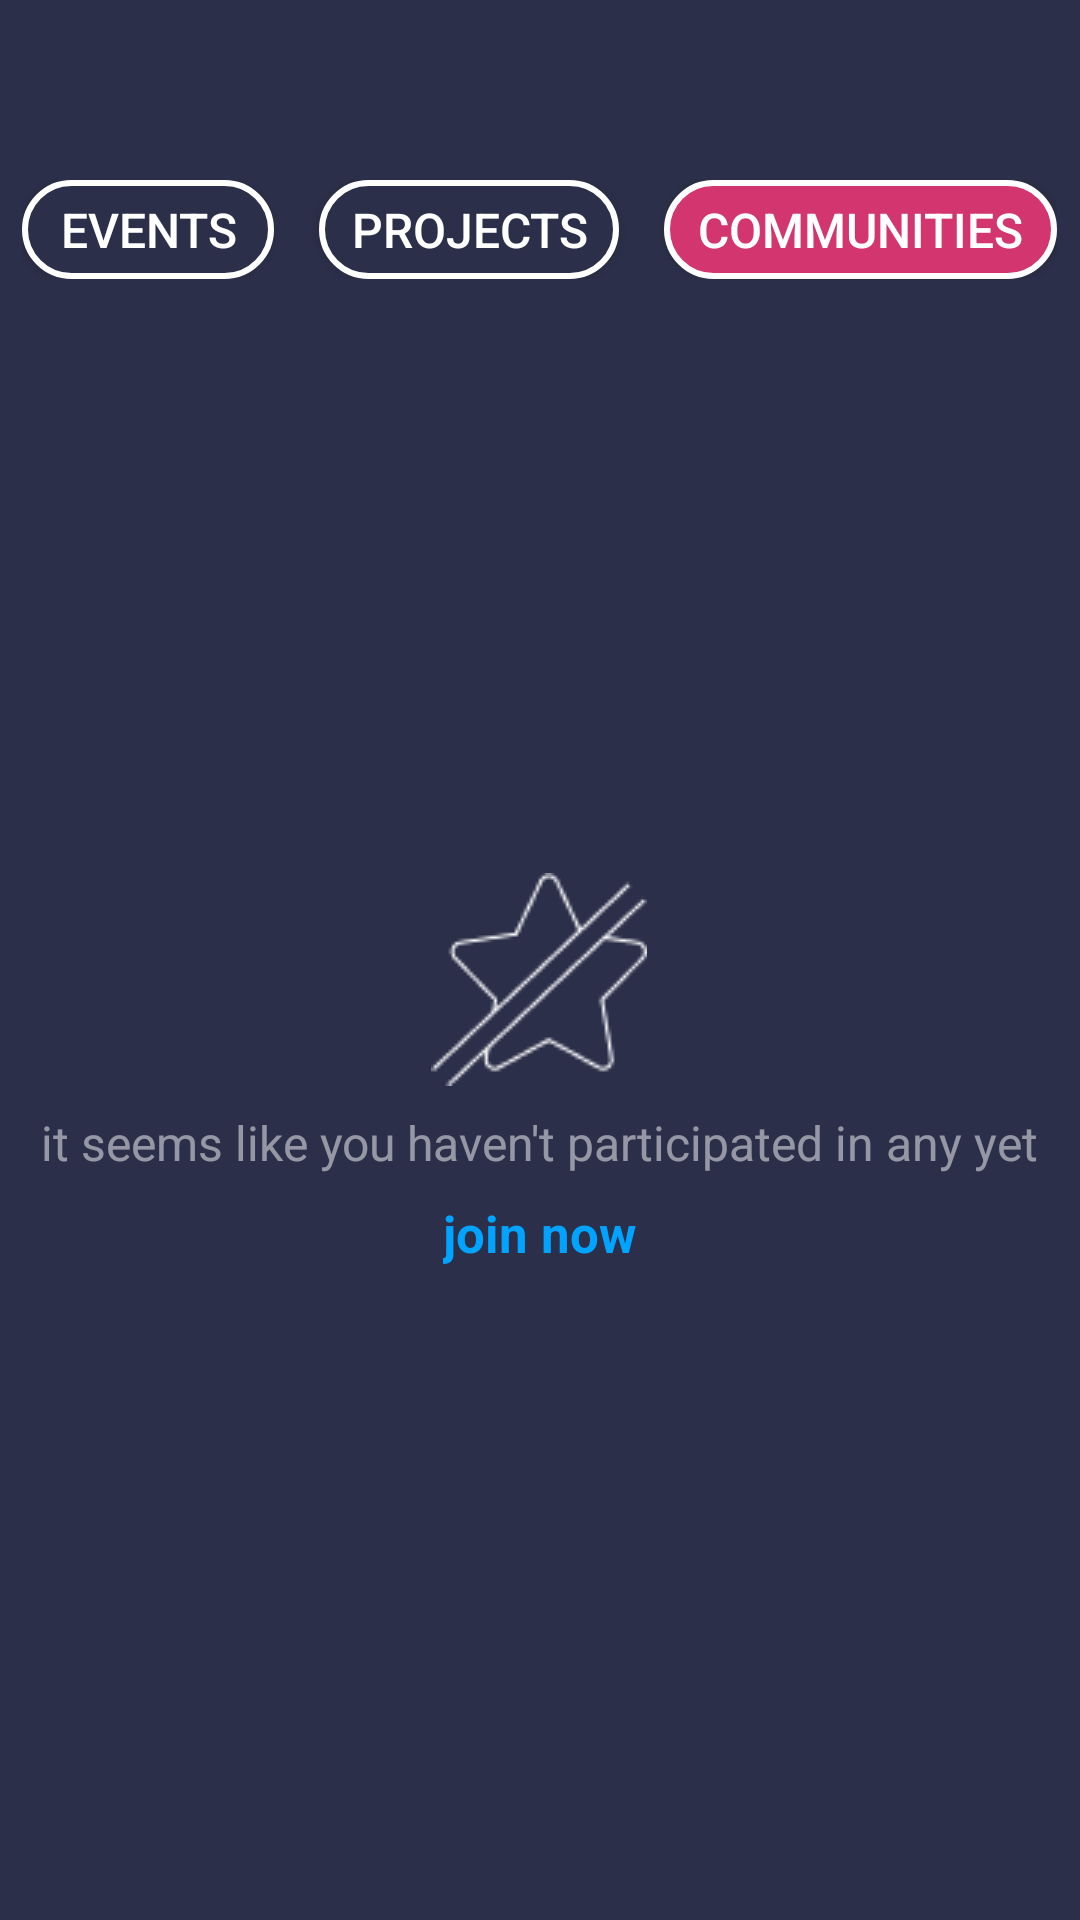

Locate icon controls on the screen. Image size 1080px x 1920px, boxes as [x1,y1,x2,y2].
no data star: [431,873,647,1086]
